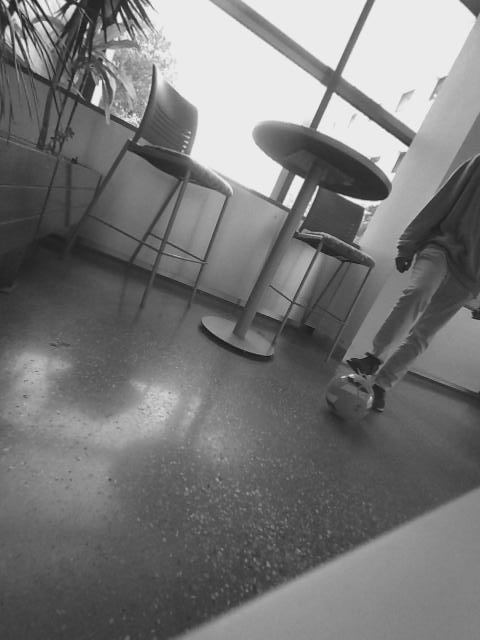ball: (325, 370, 376, 422)
